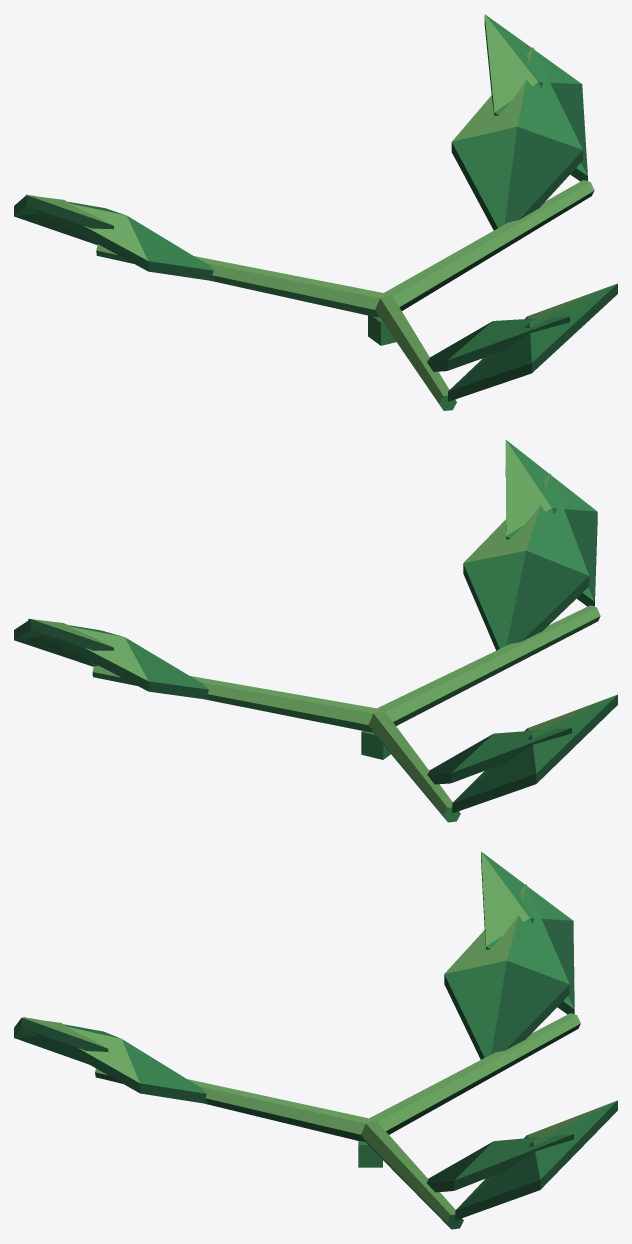
File: watermelon_stage_02.fbx
3 renders of one model, top to bottom at view 1: azimuth 30°, elevation 25°; view 2: azimuth 150°, elevation 25°; view 3: azimuth 270°, elevation 25°, orthographic. The views are drawn at different scales.
Parts seen in each view (by area): view 1: watermelon_stage_02__Foliage, watermelon_stage_02__Origin; view 2: watermelon_stage_02__Foliage, watermelon_stage_02__Origin; view 3: watermelon_stage_02__Foliage.
Part boxes in pixels (bbox=[...]): watermelon_stage_02__Foliage: bbox=[14, 14, 617, 410]; watermelon_stage_02__Origin: bbox=[368, 315, 396, 345]; watermelon_stage_02__Foliage: bbox=[14, 440, 617, 822]; watermelon_stage_02__Origin: bbox=[361, 731, 390, 759]; watermelon_stage_02__Foliage: bbox=[14, 851, 617, 1229].
Bounding box in the file's own units: 1.05 × 0.3 × 0.9728.
1 material, 1 textured.
